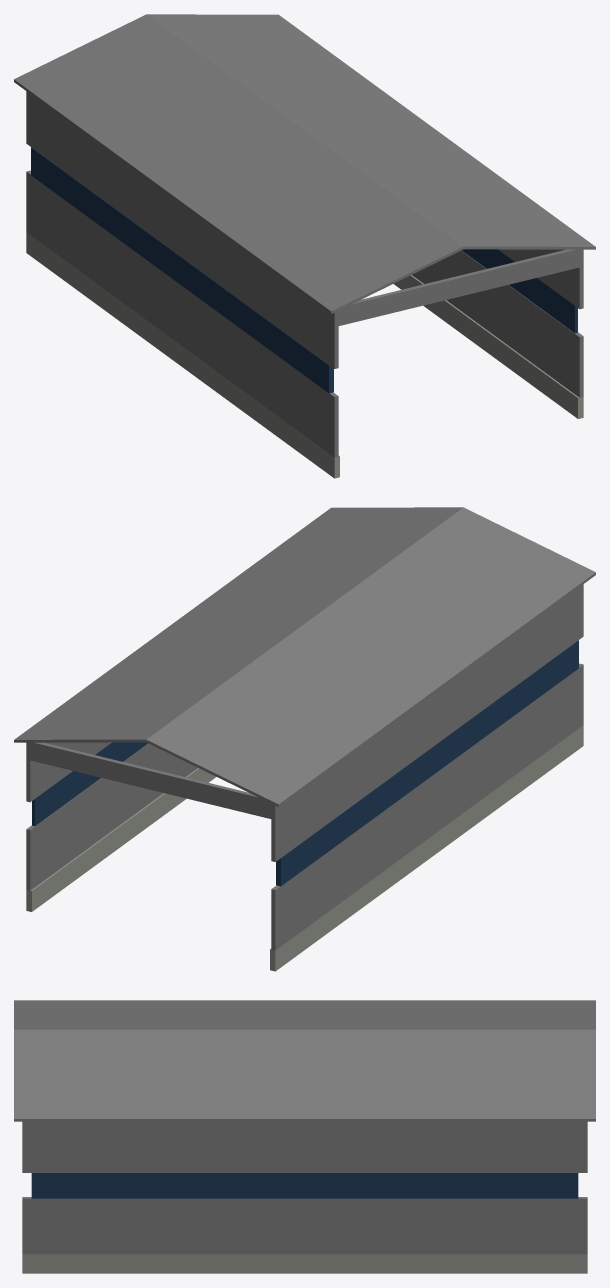
Rendered from yard_shed.fbx.
3 views of the same model, one above another, from view 1: azimuth 30°, elevation 25°; view 2: azimuth 150°, elevation 25°; view 3: azimuth 270°, elevation 25° (orthographic). The views are drawn at different scales.
Visible parts, largest first — view 1: a1060_YardShed; view 2: a1060_YardShed; view 3: a1060_YardShed.
Part boxes in pixels (x1,y1,x2,y2): a1060_YardShed: (14, 14, 595, 478); a1060_YardShed: (14, 507, 595, 971); a1060_YardShed: (14, 1000, 595, 1273).
Bounding box in the file's own units: 11.9 × 8.8 × 24.7.
